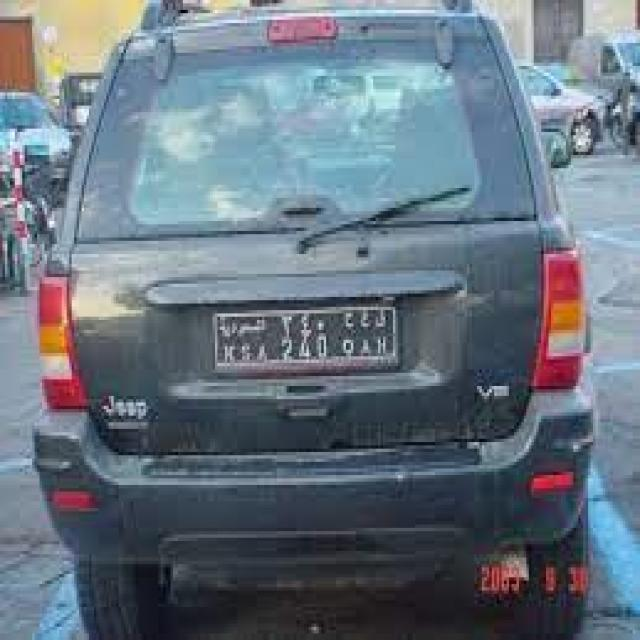license_plate: (195, 277, 413, 386)
